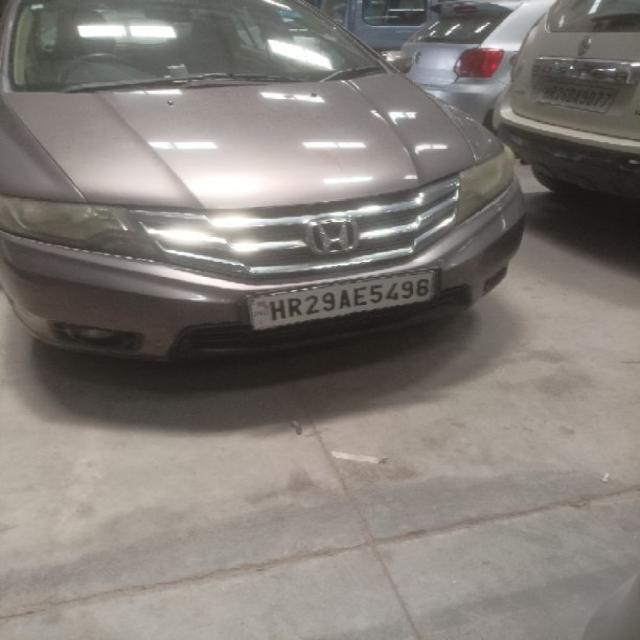license_plate: (244, 267, 438, 331)
